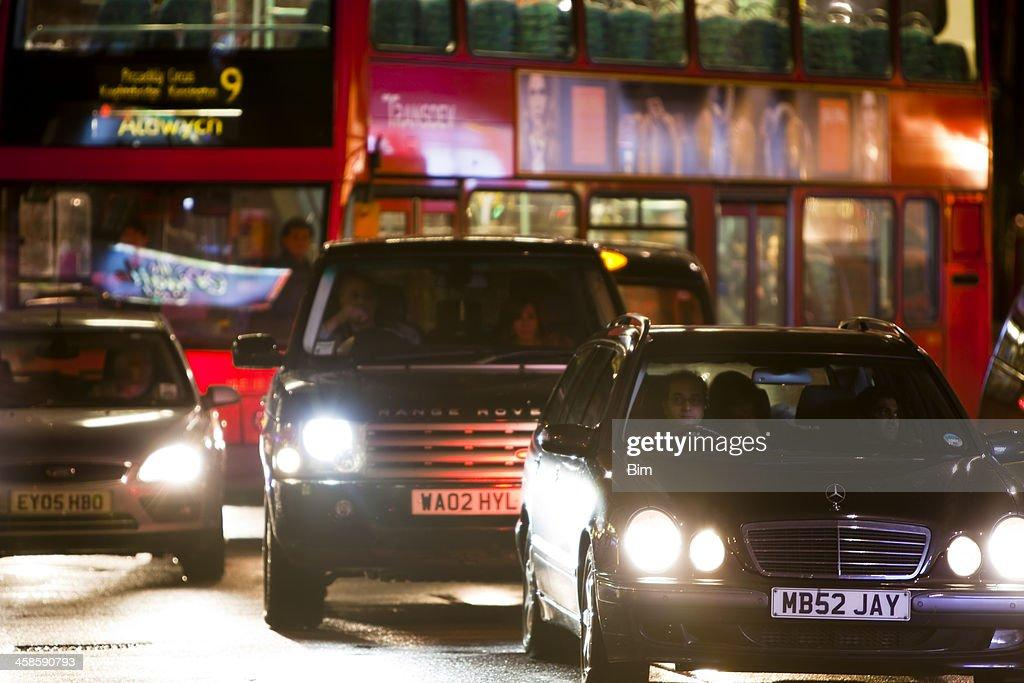Mercedes: (813, 475, 872, 512)
range rover: (367, 399, 563, 430)
